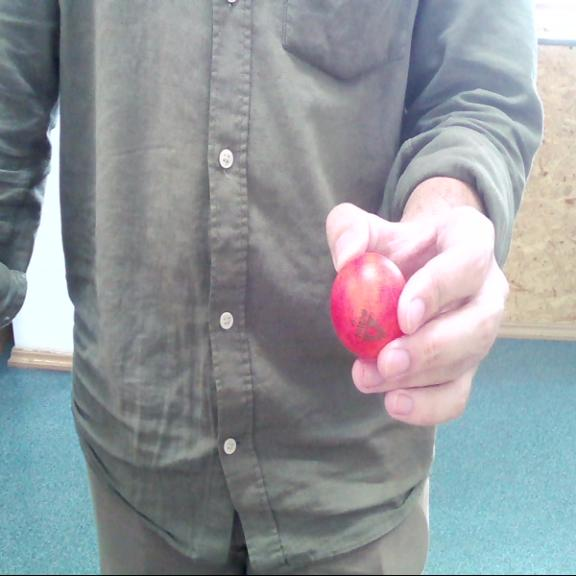ball: (331, 251, 408, 363)
